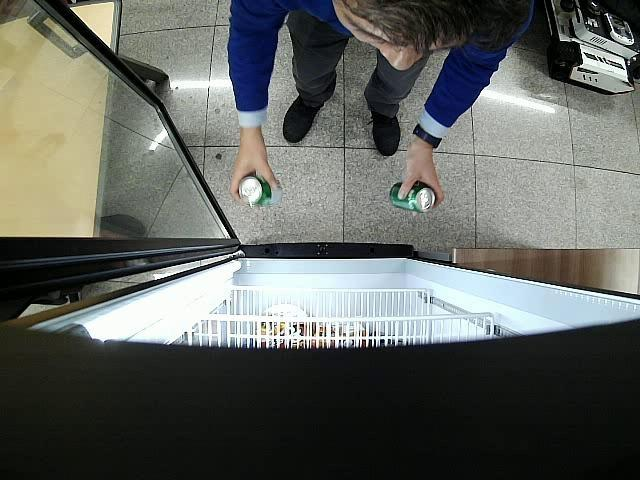12_chilsungCider: (390, 182, 436, 212), (239, 175, 283, 206)
